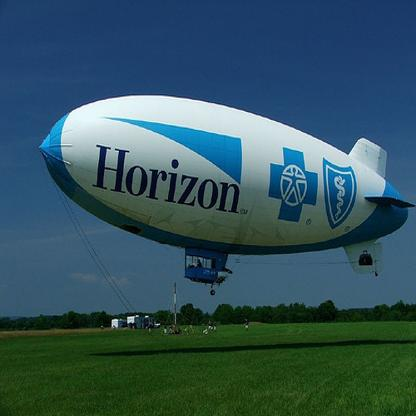Airship: (36, 92, 415, 292)
